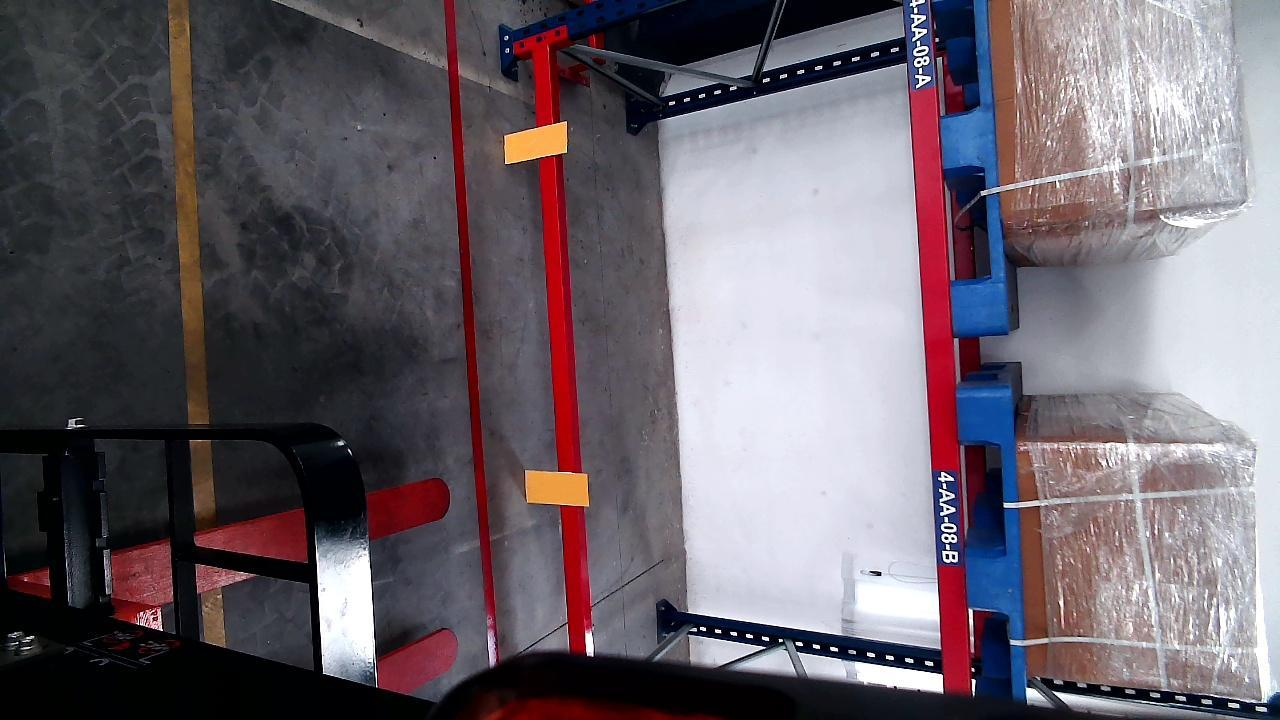red_line: (444, 1, 498, 669)
yellow_line: (168, 0, 227, 647)
